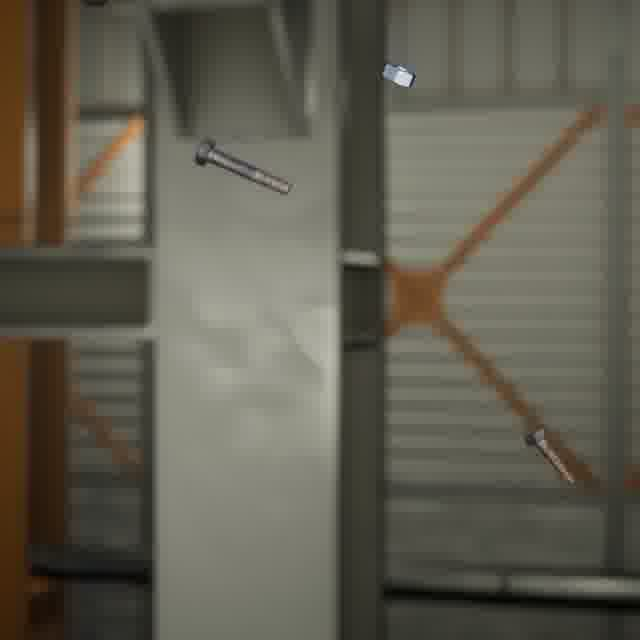bolt: (190, 134, 295, 199), (519, 420, 580, 489)
nut: (378, 58, 420, 92)
